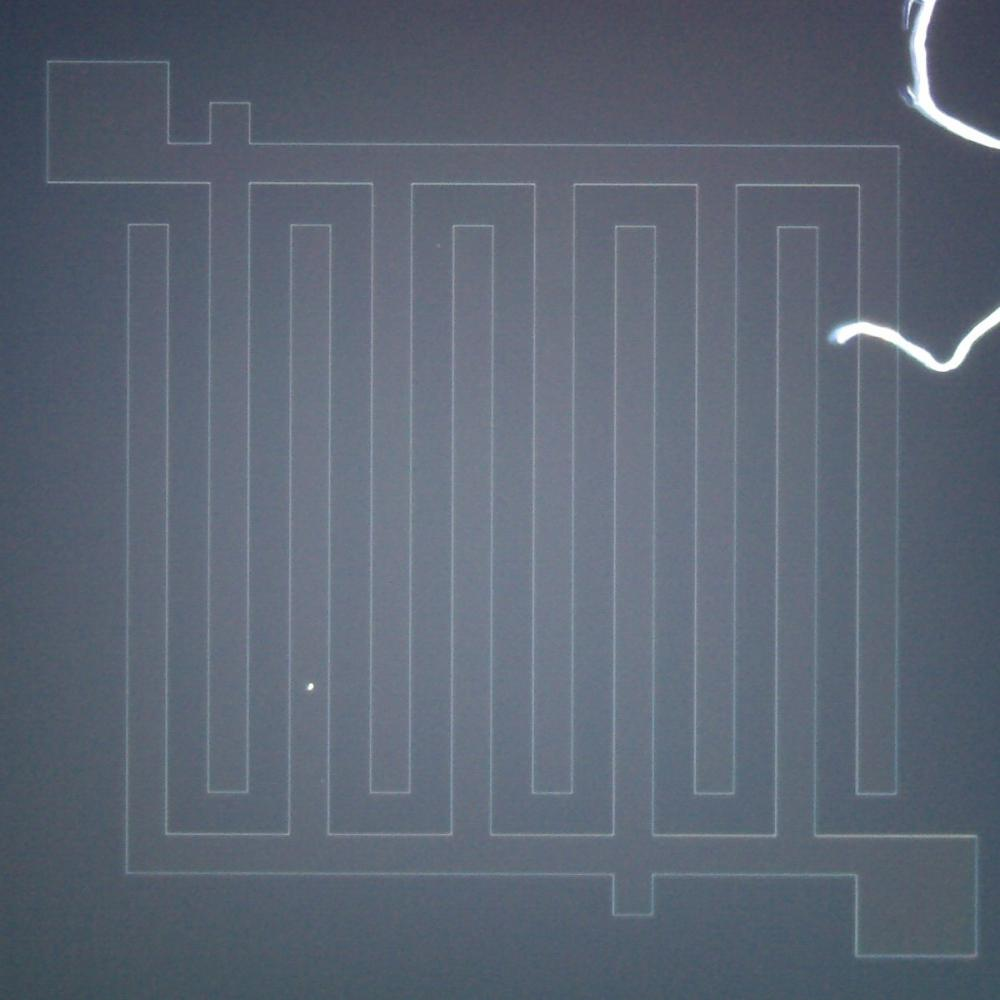curve: (860, 314, 897, 350), (914, 80, 950, 114), (924, 344, 960, 378), (902, 40, 938, 74), (961, 316, 996, 350), (912, 5, 948, 38), (935, 114, 967, 147), (826, 318, 857, 350), (968, 124, 999, 155), (900, 333, 924, 356)
dot: (307, 683, 314, 691), (436, 244, 441, 248)
